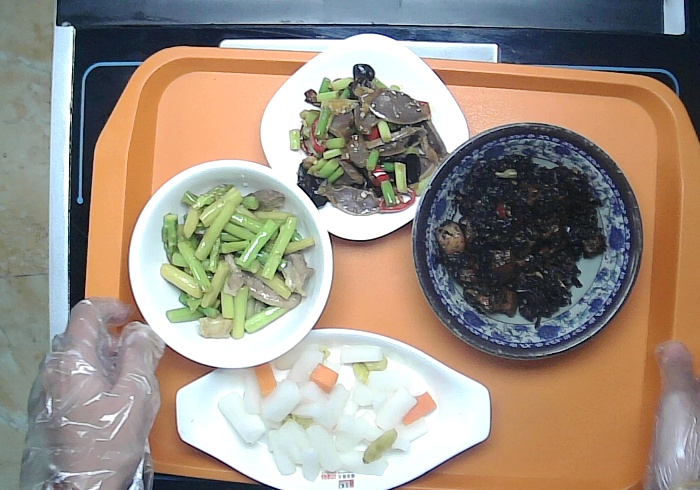ZNLD-Qing_Hua_Wan: (408, 120, 644, 361)
ZNLD-Si_Fang_Wan: (259, 31, 472, 242)
ZNLD-Tang_Wan: (124, 157, 335, 371)
ZNLD-Yu_Pan: (174, 326, 492, 490)
